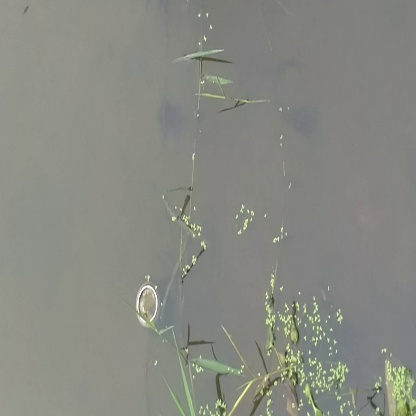bottle: (127, 274, 170, 336)
